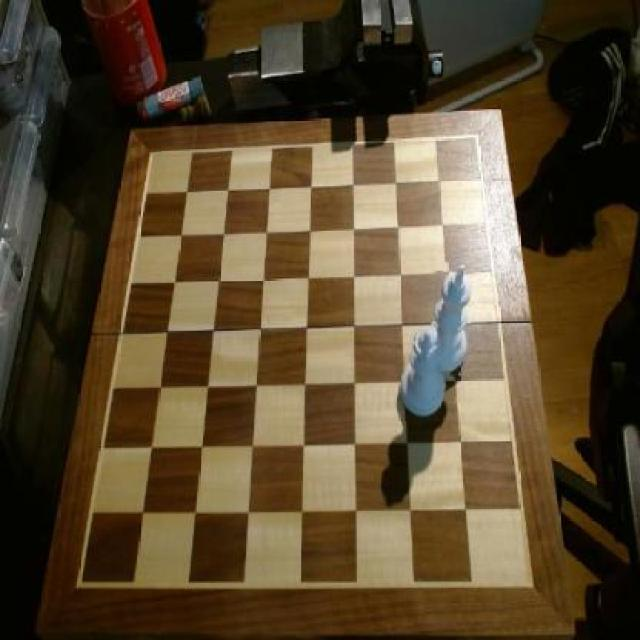white-bishop: (430, 264, 474, 378)
white-pawn: (400, 328, 446, 420)
